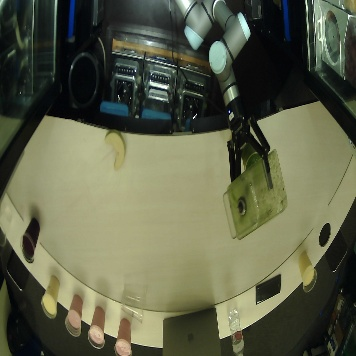empty_cup: (121, 292, 147, 324), (1, 206, 14, 250)
full_cup: (21, 214, 41, 263), (41, 273, 59, 317), (65, 291, 83, 335), (88, 304, 106, 348), (298, 250, 316, 294), (115, 317, 133, 356)
puck: (105, 131, 125, 169)
